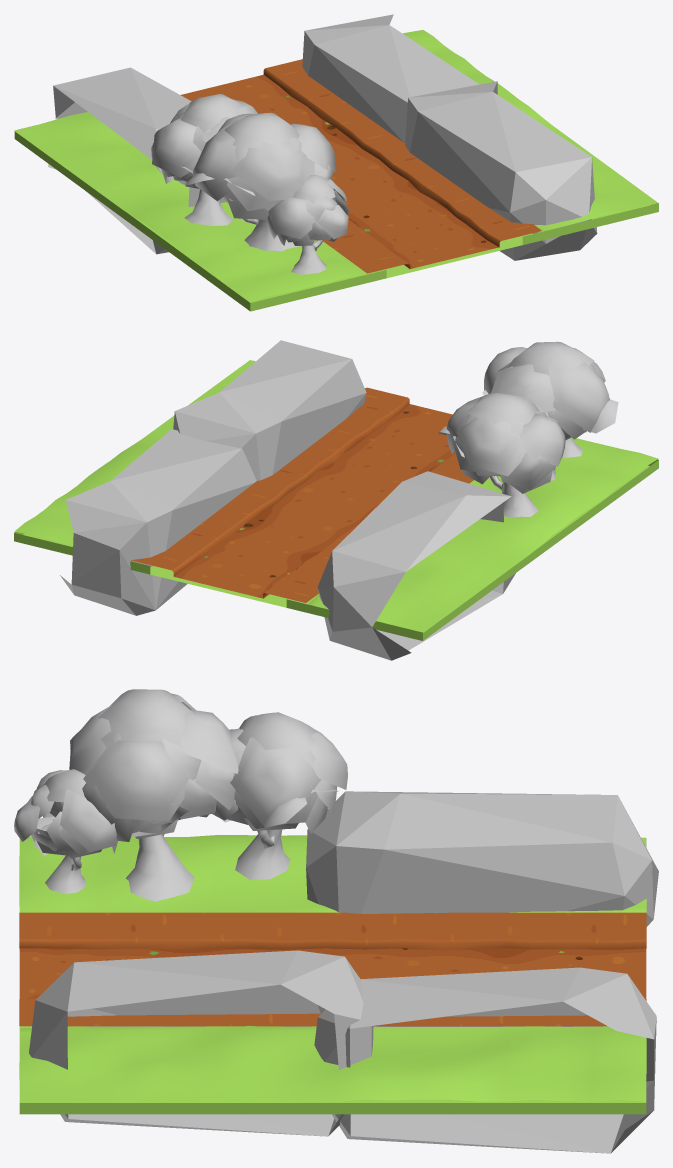
The model's file is Forest8.fbx.
The picture shows the model from 3 angles, top to bottom: view 1: azimuth 30°, elevation 25°; view 2: azimuth 150°, elevation 25°; view 3: azimuth 270°, elevation 25°; orthographic projection. The views are drawn at different scales.
Parts seen in each view (by area): view 1: Rock8.013, road_I_2.096, Plane.030, BOSQUELOWPOLY.082, Rock8.014, Rock8.011, road_I_2.093, Cube.028, BOSQUELOWPOLY.083, BOSQUELOWPOLY.081, road_I_2.095, road_I_2.092 (+1 smaller); view 2: Rock8.014, Plane.030, Rock8.011, road_I_2.096, Rock8.013, BOSQUELOWPOLY.083, BOSQUELOWPOLY.082, road_I_2.093, Cube.028, road_I_2.095, road_I_2.094, road_I_2.092; view 3: road_I_2.095, Rock8.011, Rock8.013, Rock8.014, BOSQUELOWPOLY.082, road_I_2.094, road_I_2.096, BOSQUELOWPOLY.083, Plane.030, Cube.028, BOSQUELOWPOLY.081, road_I_2.091 (+1 smaller).
Part boxes in pixels (<box>): Rock8.013: <box>405,81,597,260</box>; road_I_2.096: <box>14,112,366,301</box>; Plane.030: <box>181,74,498,268</box>; BOSQUELOWPOLY.082: <box>185,112,336,251</box>; Rock8.014: <box>302,14,479,142</box>; Rock8.011: <box>48,67,226,254</box>; road_I_2.093: <box>265,59,541,240</box>; Cube.028: <box>14,125,658,311</box>; BOSQUELOWPOLY.083: <box>151,94,257,226</box>; BOSQUELOWPOLY.081: <box>266,175,349,274</box>; road_I_2.095: <box>403,30,658,232</box>; road_I_2.092: <box>263,68,500,247</box>; Rock8.014: <box>60,429,256,615</box>; Plane.030: <box>174,404,455,598</box>; Rock8.011: <box>317,471,515,660</box>; road_I_2.096: <box>308,437,658,632</box>; Rock8.013: <box>173,340,366,480</box>; BOSQUELOWPOLY.083: <box>438,393,565,517</box>; BOSQUELOWPOLY.082: <box>482,341,618,485</box>; road_I_2.093: <box>131,387,407,570</box>; Cube.028: <box>14,388,658,640</box>; road_I_2.095: <box>14,360,255,560</box>; road_I_2.094: <box>265,453,473,602</box>; road_I_2.092: <box>172,398,409,576</box>; road_I_2.095: <box>19,1025,646,1102</box>; Rock8.011: <box>306,791,658,926</box>; Rock8.013: <box>29,950,373,1136</box>; Rock8.014: <box>314,967,656,1153</box>; BOSQUELOWPOLY.082: <box>69,689,238,901</box>; road_I_2.094: <box>19,912,646,940</box>; road_I_2.096: <box>19,835,646,912</box>; BOSQUELOWPOLY.083: <box>212,712,347,879</box>; Plane.030: <box>19,948,646,999</box>; Cube.028: <box>19,838,646,1114</box>; BOSQUELOWPOLY.081: <box>14,769,117,893</box>; road_I_2.091: <box>19,939,646,950</box>.
Bounding box in the file's own units: 10270 × 4606 × 10288.
